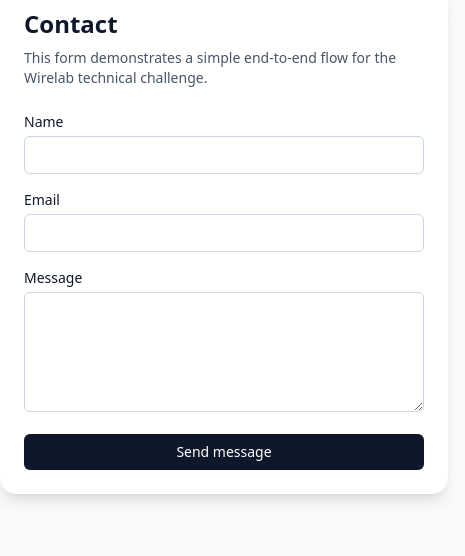
ContactPage › shows an error when client-side validation fails
Type "R" into the field labelled "Name" at (224, 155), box [24,136,424,174]
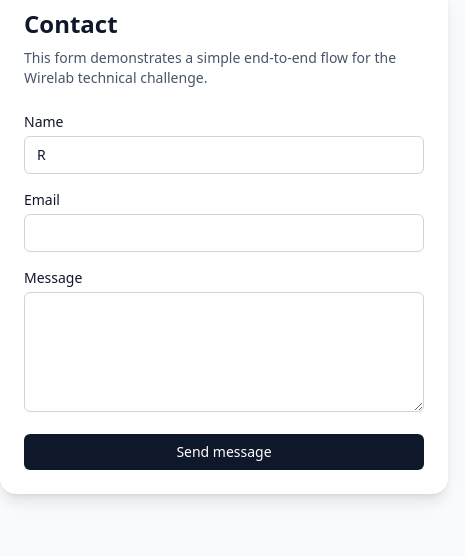
Type "rian@example.com" into the field labelled "Email" at (224, 233), box [24,214,424,252]
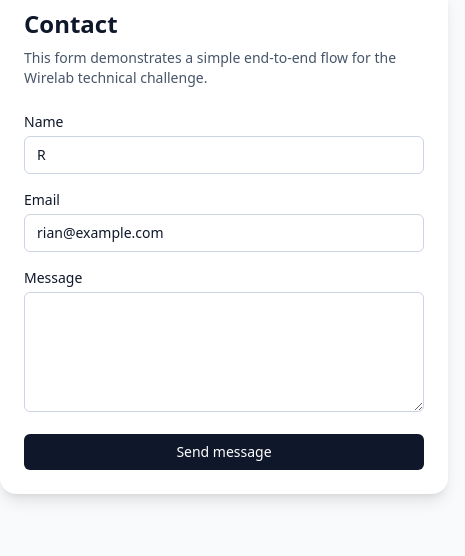
Type "kort" into the text box labelled "Message" at (224, 352), box [24,292,424,412]
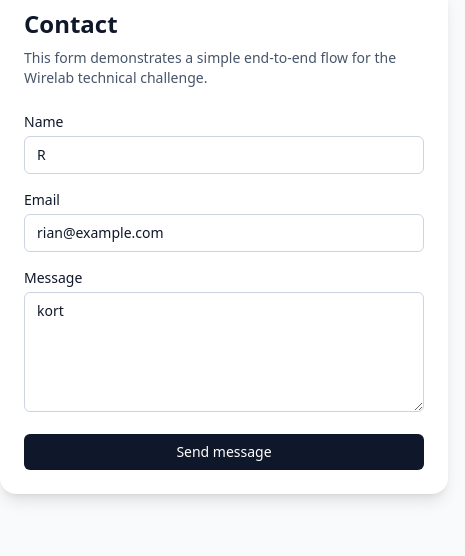
Click the button "Send message" at (224, 452), box [24,434,424,470]
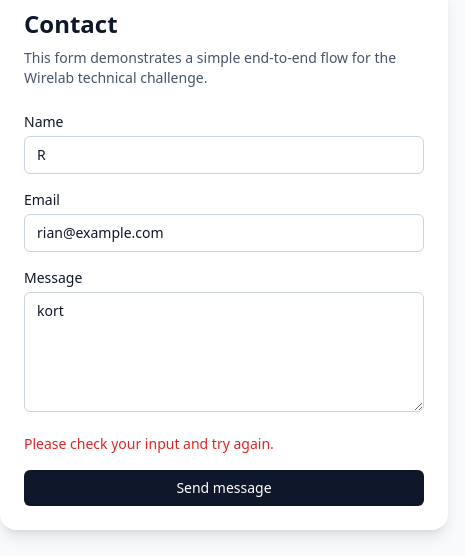
Check: the message reads "Please check your input and try again.", box [24,434,274,453]
